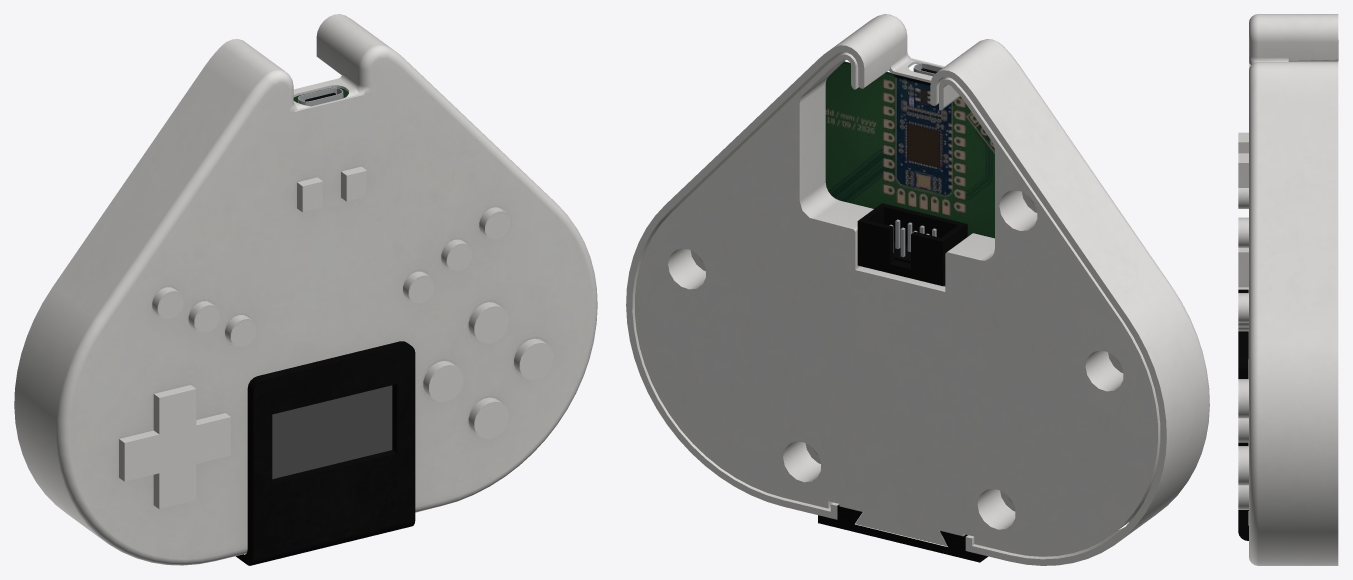
Rendered from Onigiri OTTIMIZZATO.glb.
3 renders of one model, left to right at view 1: azimuth 30°, elevation 25°; view 2: azimuth 150°, elevation 25°; view 3: azimuth 270°, elevation 25°, orthographic. The views are drawn at different scales.
Parts seen in each view (by area): view 1: Controller_Low; view 2: Controller_Low; view 3: Controller_Low.
Boxes of the visible parts, x1,y1,x2,y2 form: Controller_Low: (14,14,597,565); Controller_Low: (626,14,1209,565); Controller_Low: (1238,14,1338,565).
Size of the model in its own units: 5.64 by 4.83 by 0.9485.
Materials: 2 (2 with a texture image).
